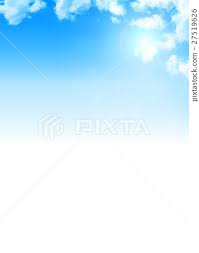sky: (2, 2, 189, 117)
